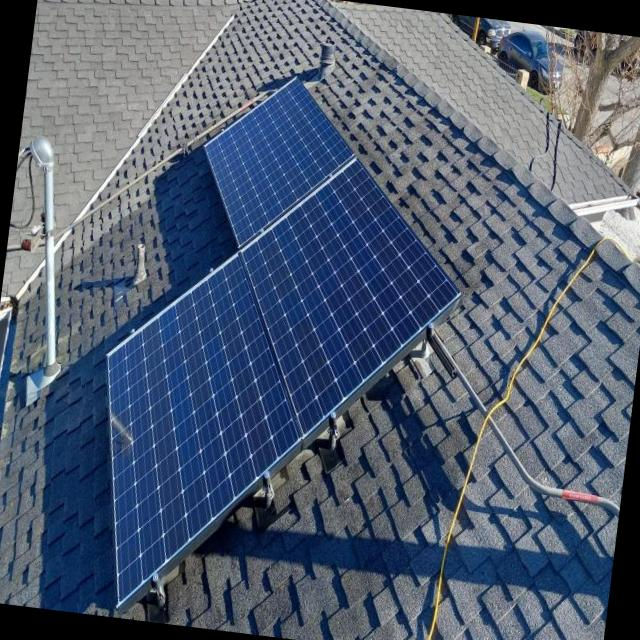no faulty: (112, 81, 463, 605)
